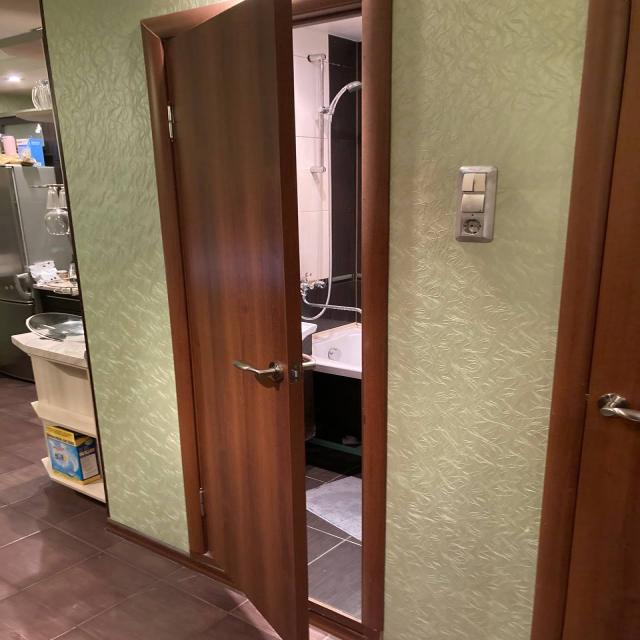open: (148, 26, 394, 618)
